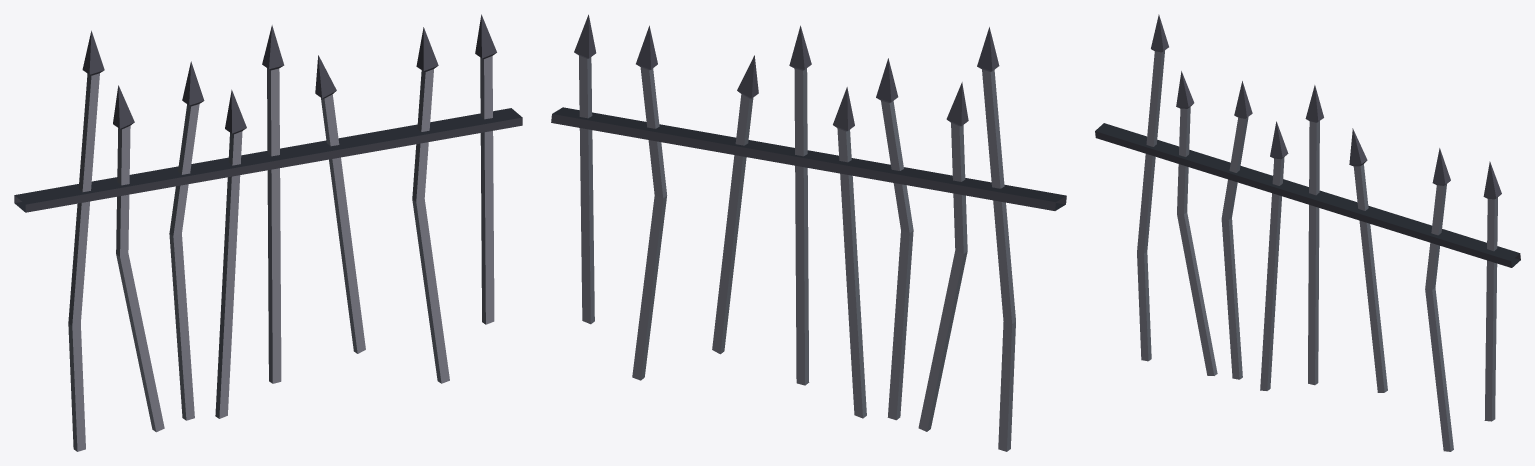
The model's file is HWN20_IronfFence_04.gltf.
3 views of the same model, side by side, from view 1: azimuth 30°, elevation 25°; view 2: azimuth 150°, elevation 25°; view 3: azimuth 330°, elevation 25° (orthographic). The views are drawn at different scales.
Visible parts, largest first — view 1: HWN20_IronfFence_04_glb; view 2: HWN20_IronfFence_04_glb; view 3: HWN20_IronfFence_04_glb.
Boxes of the visible parts, x1,y1,x2,y2 form: HWN20_IronfFence_04_glb: (14,14,522,451); HWN20_IronfFence_04_glb: (551,14,1066,451); HWN20_IronfFence_04_glb: (1095,14,1520,451).
Size of what is drawn, in the model's own units: 4.02 by 3.35 by 0.1608.
1 material, 1 textured.
